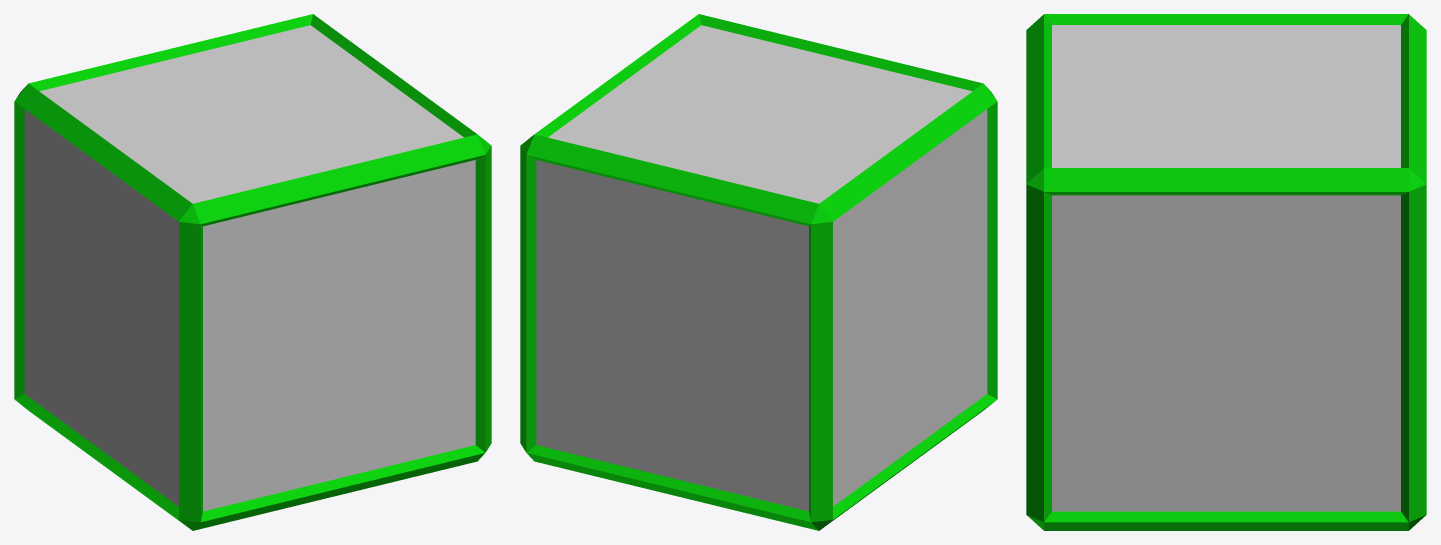
File: sunkenface.fbx
3 renders of one model, left to right at view 1: azimuth 30°, elevation 25°; view 2: azimuth 150°, elevation 25°; view 3: azimuth 270°, elevation 25°, orthographic. The views are drawn at different scales.
Visible parts, largest first — view 1: StandardCube; view 2: StandardCube; view 3: StandardCube.
Boxes of the visible parts, bbox=[...] form: StandardCube: bbox=[14, 14, 491, 530]; StandardCube: bbox=[520, 14, 997, 530]; StandardCube: bbox=[1026, 14, 1426, 530].
Size of the model in its own units: 2 by 2 by 2.
